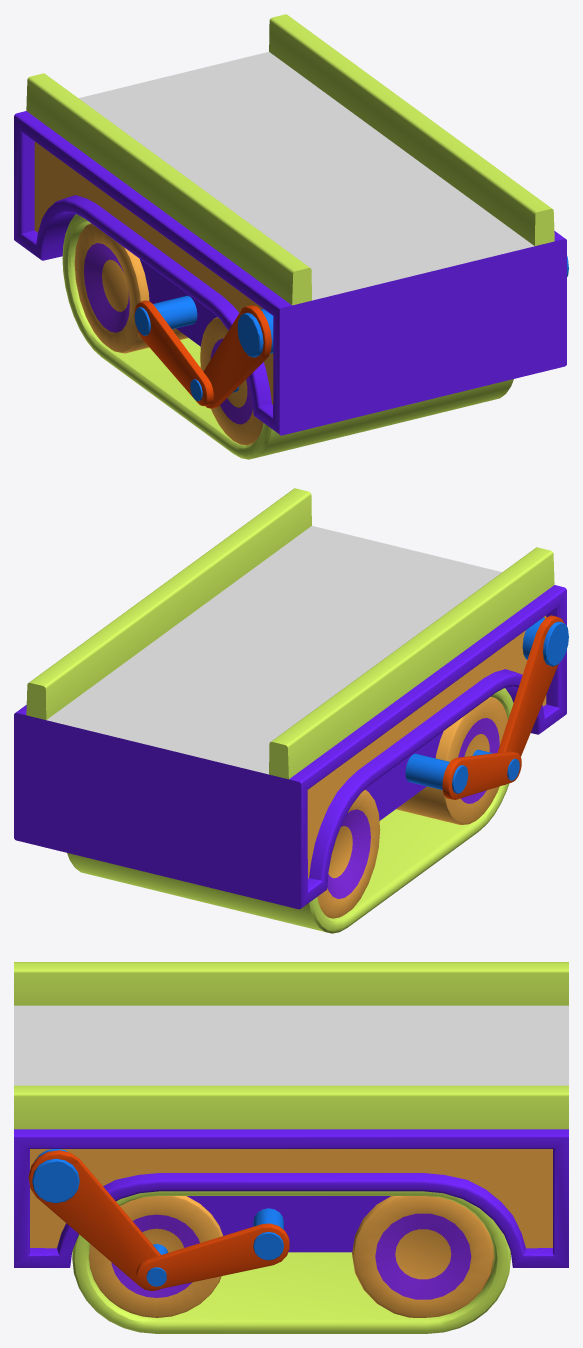
File: SM_Conveyor_01.fbx
3 views of the same model, one above another, from view 1: azimuth 30°, elevation 25°; view 2: azimuth 150°, elevation 25°; view 3: azimuth 270°, elevation 25° (orthographic). The views are drawn at different scales.
Visible parts, largest first — view 1: SM_Conveyor; view 2: SM_Conveyor; view 3: SM_Conveyor.
Part boxes in pixels (box(x1,y1,x2,y2)): SM_Conveyor: box(14, 14, 568, 459); SM_Conveyor: box(14, 488, 568, 933); SM_Conveyor: box(14, 962, 568, 1333).
Size of the model in its own units: 92.03 by 64.31 by 133.
